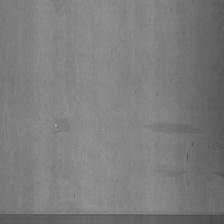welding_line: (0, 208, 223, 221)
